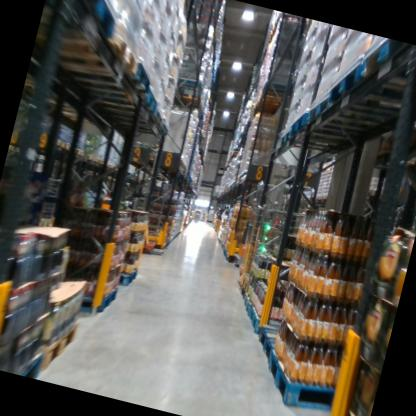pallet: (44, 12, 155, 97), (315, 48, 414, 131), (258, 345, 366, 416), (47, 41, 156, 104), (300, 80, 393, 144), (65, 66, 164, 117), (66, 85, 169, 129), (48, 0, 135, 52), (89, 105, 174, 150), (355, 36, 416, 92), (287, 105, 353, 150), (37, 319, 85, 378), (69, 277, 119, 325), (279, 126, 347, 161), (254, 322, 298, 363), (245, 308, 279, 344), (170, 84, 207, 112), (110, 261, 141, 292), (19, 349, 49, 380), (237, 268, 261, 297), (239, 294, 259, 320), (39, 211, 56, 231), (83, 149, 98, 164), (51, 137, 68, 150), (72, 144, 83, 155)
pallet_truck: (228, 170, 292, 280)
